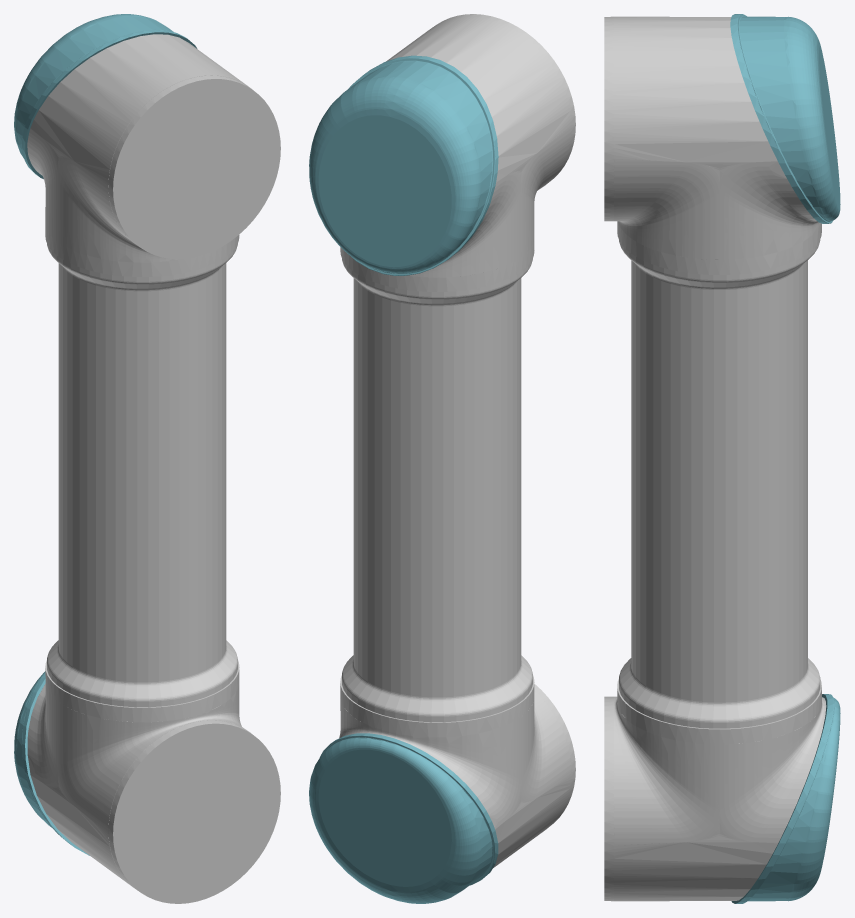
Rendered from upper_arm.dae.
3 views of the same model, side by side, from view 1: azimuth 30°, elevation 25°; view 2: azimuth 150°, elevation 25°; view 3: azimuth 270°, elevation 25° (orthographic). The views are drawn at different scales.
Parts seen in each view (by area): view 1: upperarm; view 2: upperarm; view 3: upperarm.
Boxes of the visible parts, bbox=[...] form: upperarm: bbox=[14, 14, 280, 903]; upperarm: bbox=[309, 14, 575, 903]; upperarm: bbox=[604, 14, 840, 903].
Size of the model in its own units: 0.119 by 0.1337 by 0.544.
